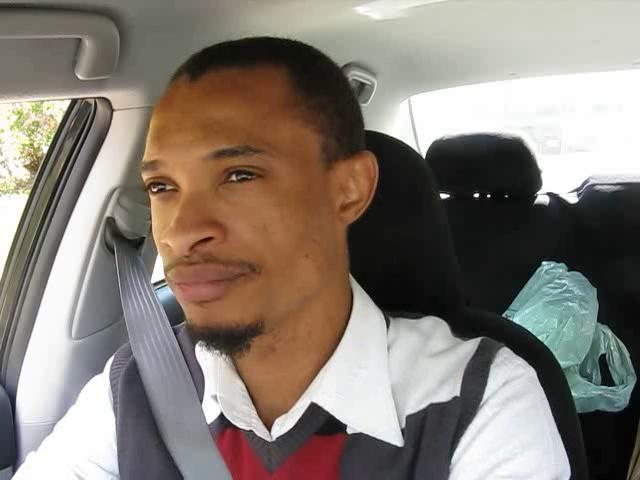close_eyeL: (132, 171, 188, 207)
close_eyeR: (207, 157, 269, 198)
no_yawn: (161, 254, 264, 306)
